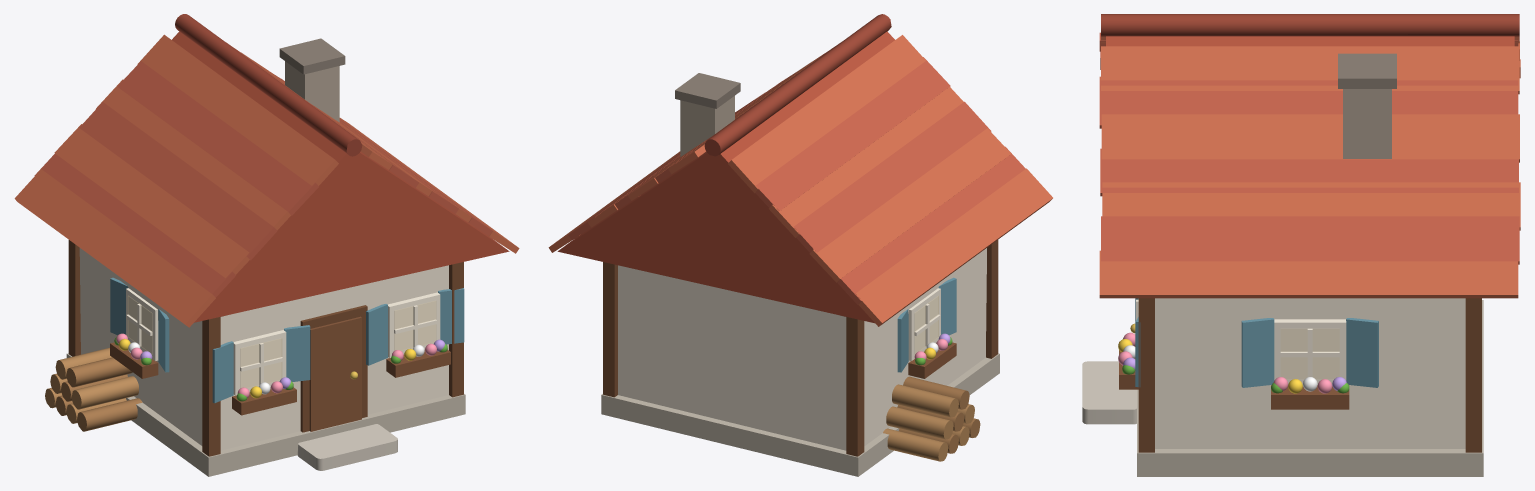
Rendered from cottage.glb.
The picture shows the model from 3 angles, left to right: view 1: azimuth 30°, elevation 25°; view 2: azimuth 150°, elevation 25°; view 3: azimuth 270°, elevation 25°; orthographic projection. The views are drawn at different scales.
Parts seen in each view (by area): view 1: roof, walls, shingle, shingle.003, shingle.005, shingle.006, shingle.002, footing, door, shingle.001, shingle.004, ridge (+28 smaller); view 2: walls, roof, shingle, footing, shingle.006, shingle.002, shingle.003, shingle.005, shingle.004, shingle.001, ridge, beam.003 (+14 smaller); view 3: walls, shingle.008, shingle.011, shingle.007, shingle.013, shingle.010, shingle.009, shingle.012, footing, ridge, roof, window_frame.002 (+9 smaller).
Part boxes in pixels (x1,y1,x2,y2): roof: (172, 31, 509, 322); walls: (79, 248, 448, 450); shingle: (14, 169, 215, 327); shingle.003: (79, 102, 277, 260); shingle.005: (117, 61, 318, 215); shingle.006: (137, 34, 338, 185); shingle.002: (54, 124, 249, 278); footing: (66, 353, 465, 476); door: (309, 316, 361, 431); shingle.001: (34, 153, 235, 297); shingle.004: (96, 79, 290, 230); ridge: (175, 14, 362, 156); walls: (618, 248, 986, 450); roof: (557, 31, 894, 323); shingle: (855, 168, 1052, 326); footing: (601, 353, 999, 476); shingle.006: (728, 35, 925, 193); shingle.002: (809, 128, 1011, 282); shingle.003: (793, 101, 991, 252); shingle.005: (755, 57, 950, 210); shingle.004: (769, 87, 963, 237); shingle.001: (837, 146, 1025, 304); ridge: (704, 14, 891, 156); beam.003: (846, 317, 864, 456); walls: (1155, 298, 1465, 448); shingle.008: (1101, 216, 1519, 264); shingle.011: (1101, 114, 1519, 162); shingle.007: (1099, 250, 1518, 298); shingle.013: (1101, 46, 1519, 94); shingle.010: (1100, 148, 1518, 196); shingle.009: (1102, 182, 1520, 230); shingle.012: (1099, 80, 1518, 128); footing: (1137, 300, 1483, 476); ridge: (1101, 14, 1519, 36); roof: (1106, 36, 1514, 46); window_frame.002: (1274, 319, 1346, 384).
Bounding box in the file's own units: 2.99 × 2.61 × 2.68.
